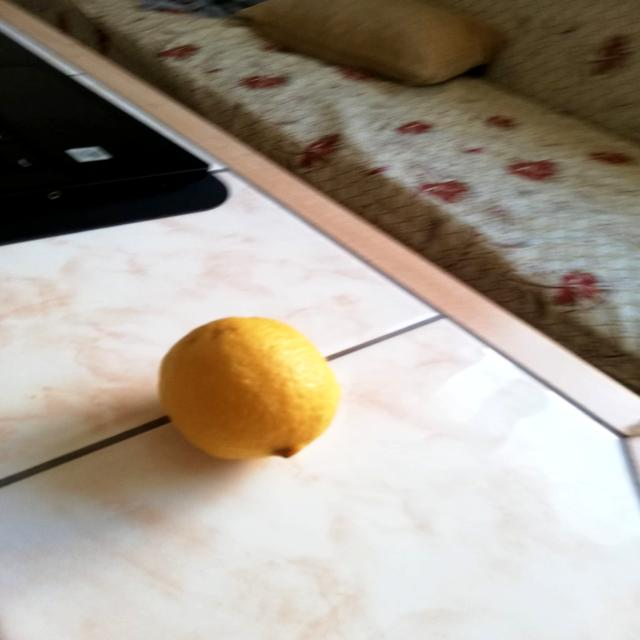lemon: (154, 305, 345, 466)
